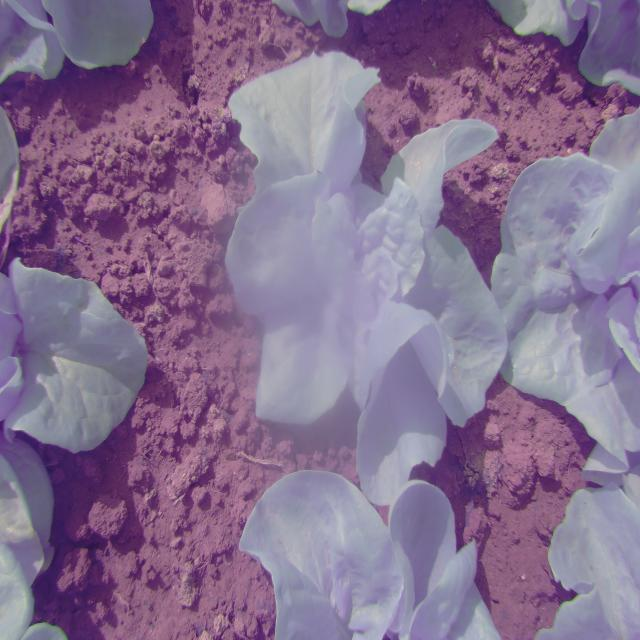vege: (221, 45, 505, 481)
